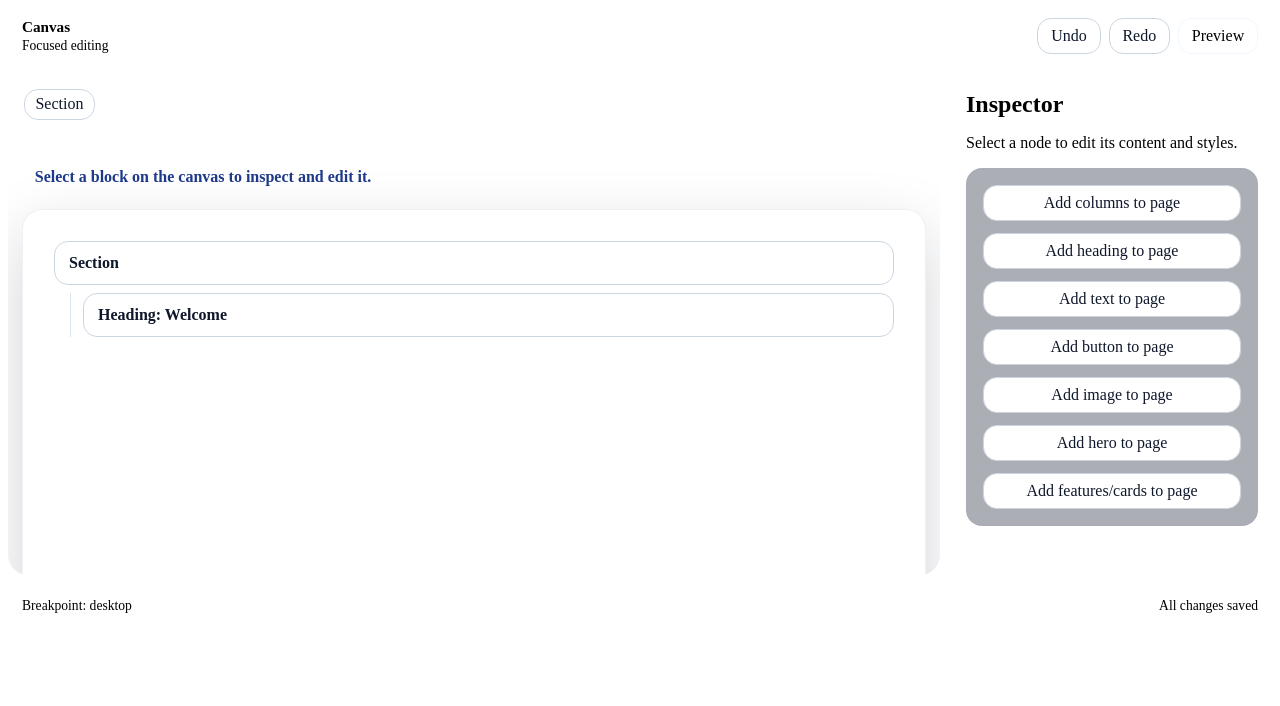
Test: editor shell flow › selects nodes directly from the canvas viewport
Expected: the text "Select a node to edit its content and styles." is shown, [966,134,1258,152]
Click the button "Heading: Welcome" at (163, 314), box [83,293,894,337]
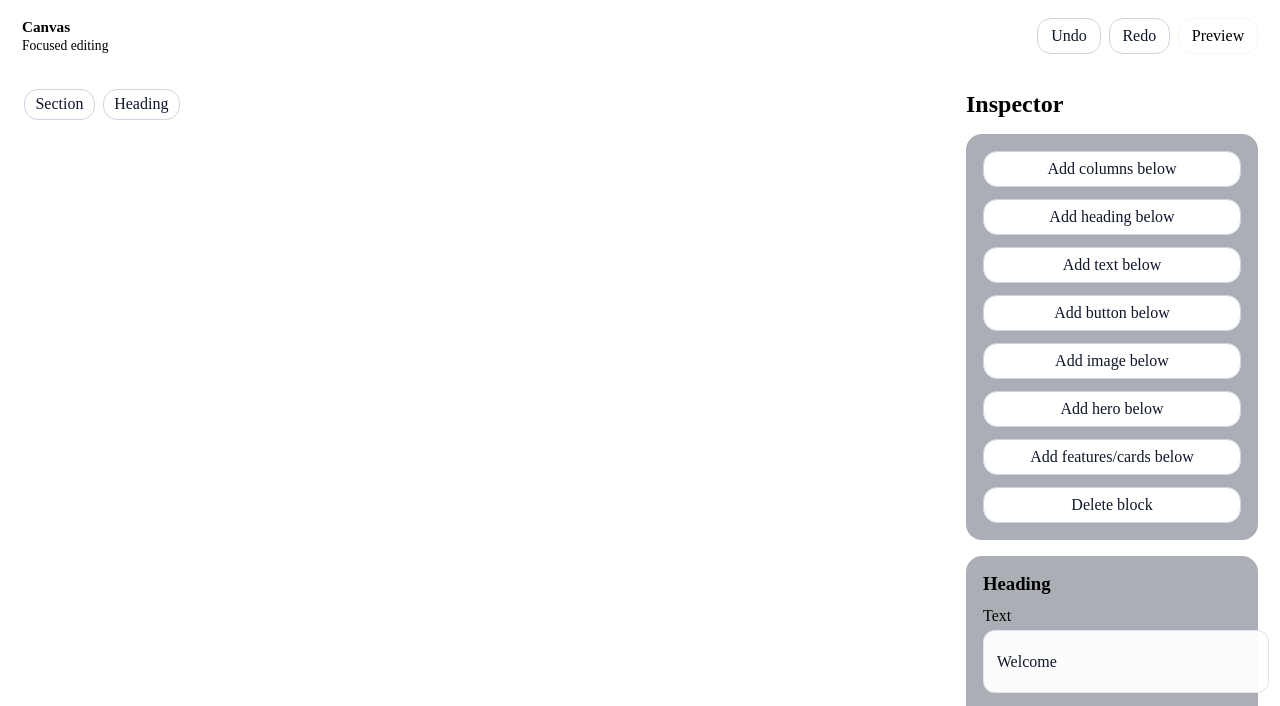
Expected: the field labelled "Text" holds "Welcome", [983,630,1269,693]
